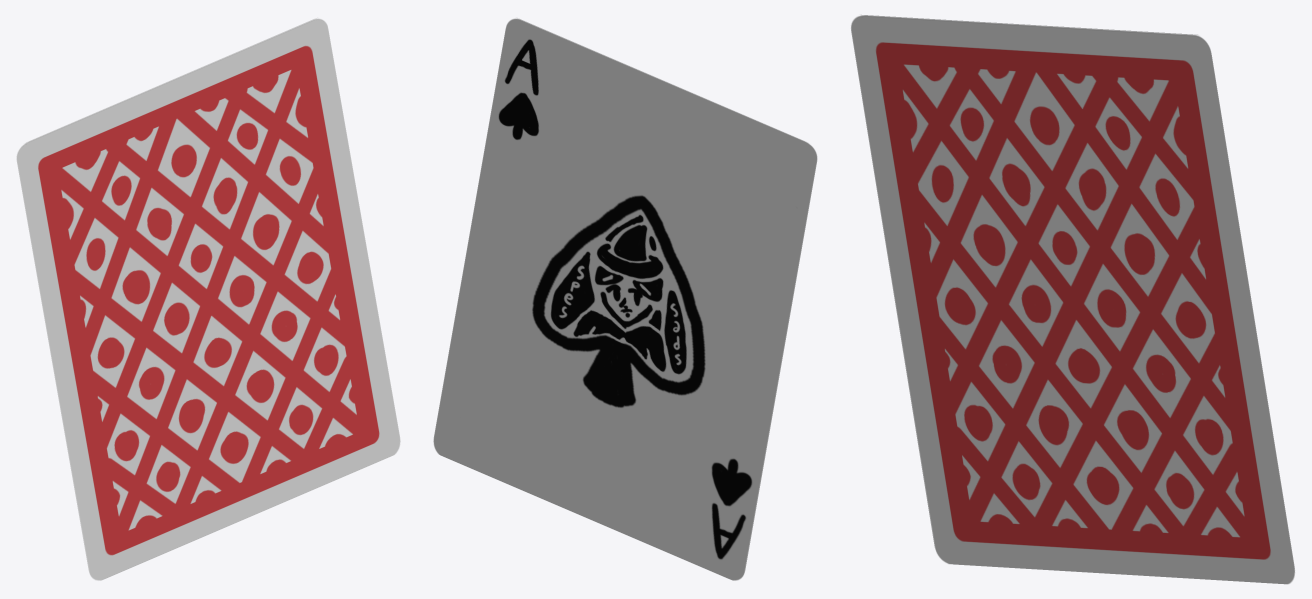
File: aceofspadesgw.glb
The picture shows the model from 3 angles, left to right: view 1: azimuth 30°, elevation 25°; view 2: azimuth 150°, elevation 25°; view 3: azimuth 330°, elevation 25°; orthographic projection. The views are drawn at different scales.
Visible parts, largest first — view 1: Cube.001, Cube; view 2: Cube, Cube.001; view 3: Cube.001, Cube.
Boxes of the visible parts, x1,y1,x2,y2 form: Cube.001: (17, 20, 400, 580); Cube: (16, 18, 398, 572); Cube: (434, 18, 817, 579); Cube.001: (433, 30, 816, 580); Cube.001: (851, 16, 1294, 584); Cube: (851, 15, 1294, 567).
Bounding box in the file's own units: 0.9823 × 1.24 × 0.0001.
Materials: 2 (2 with a texture image).
